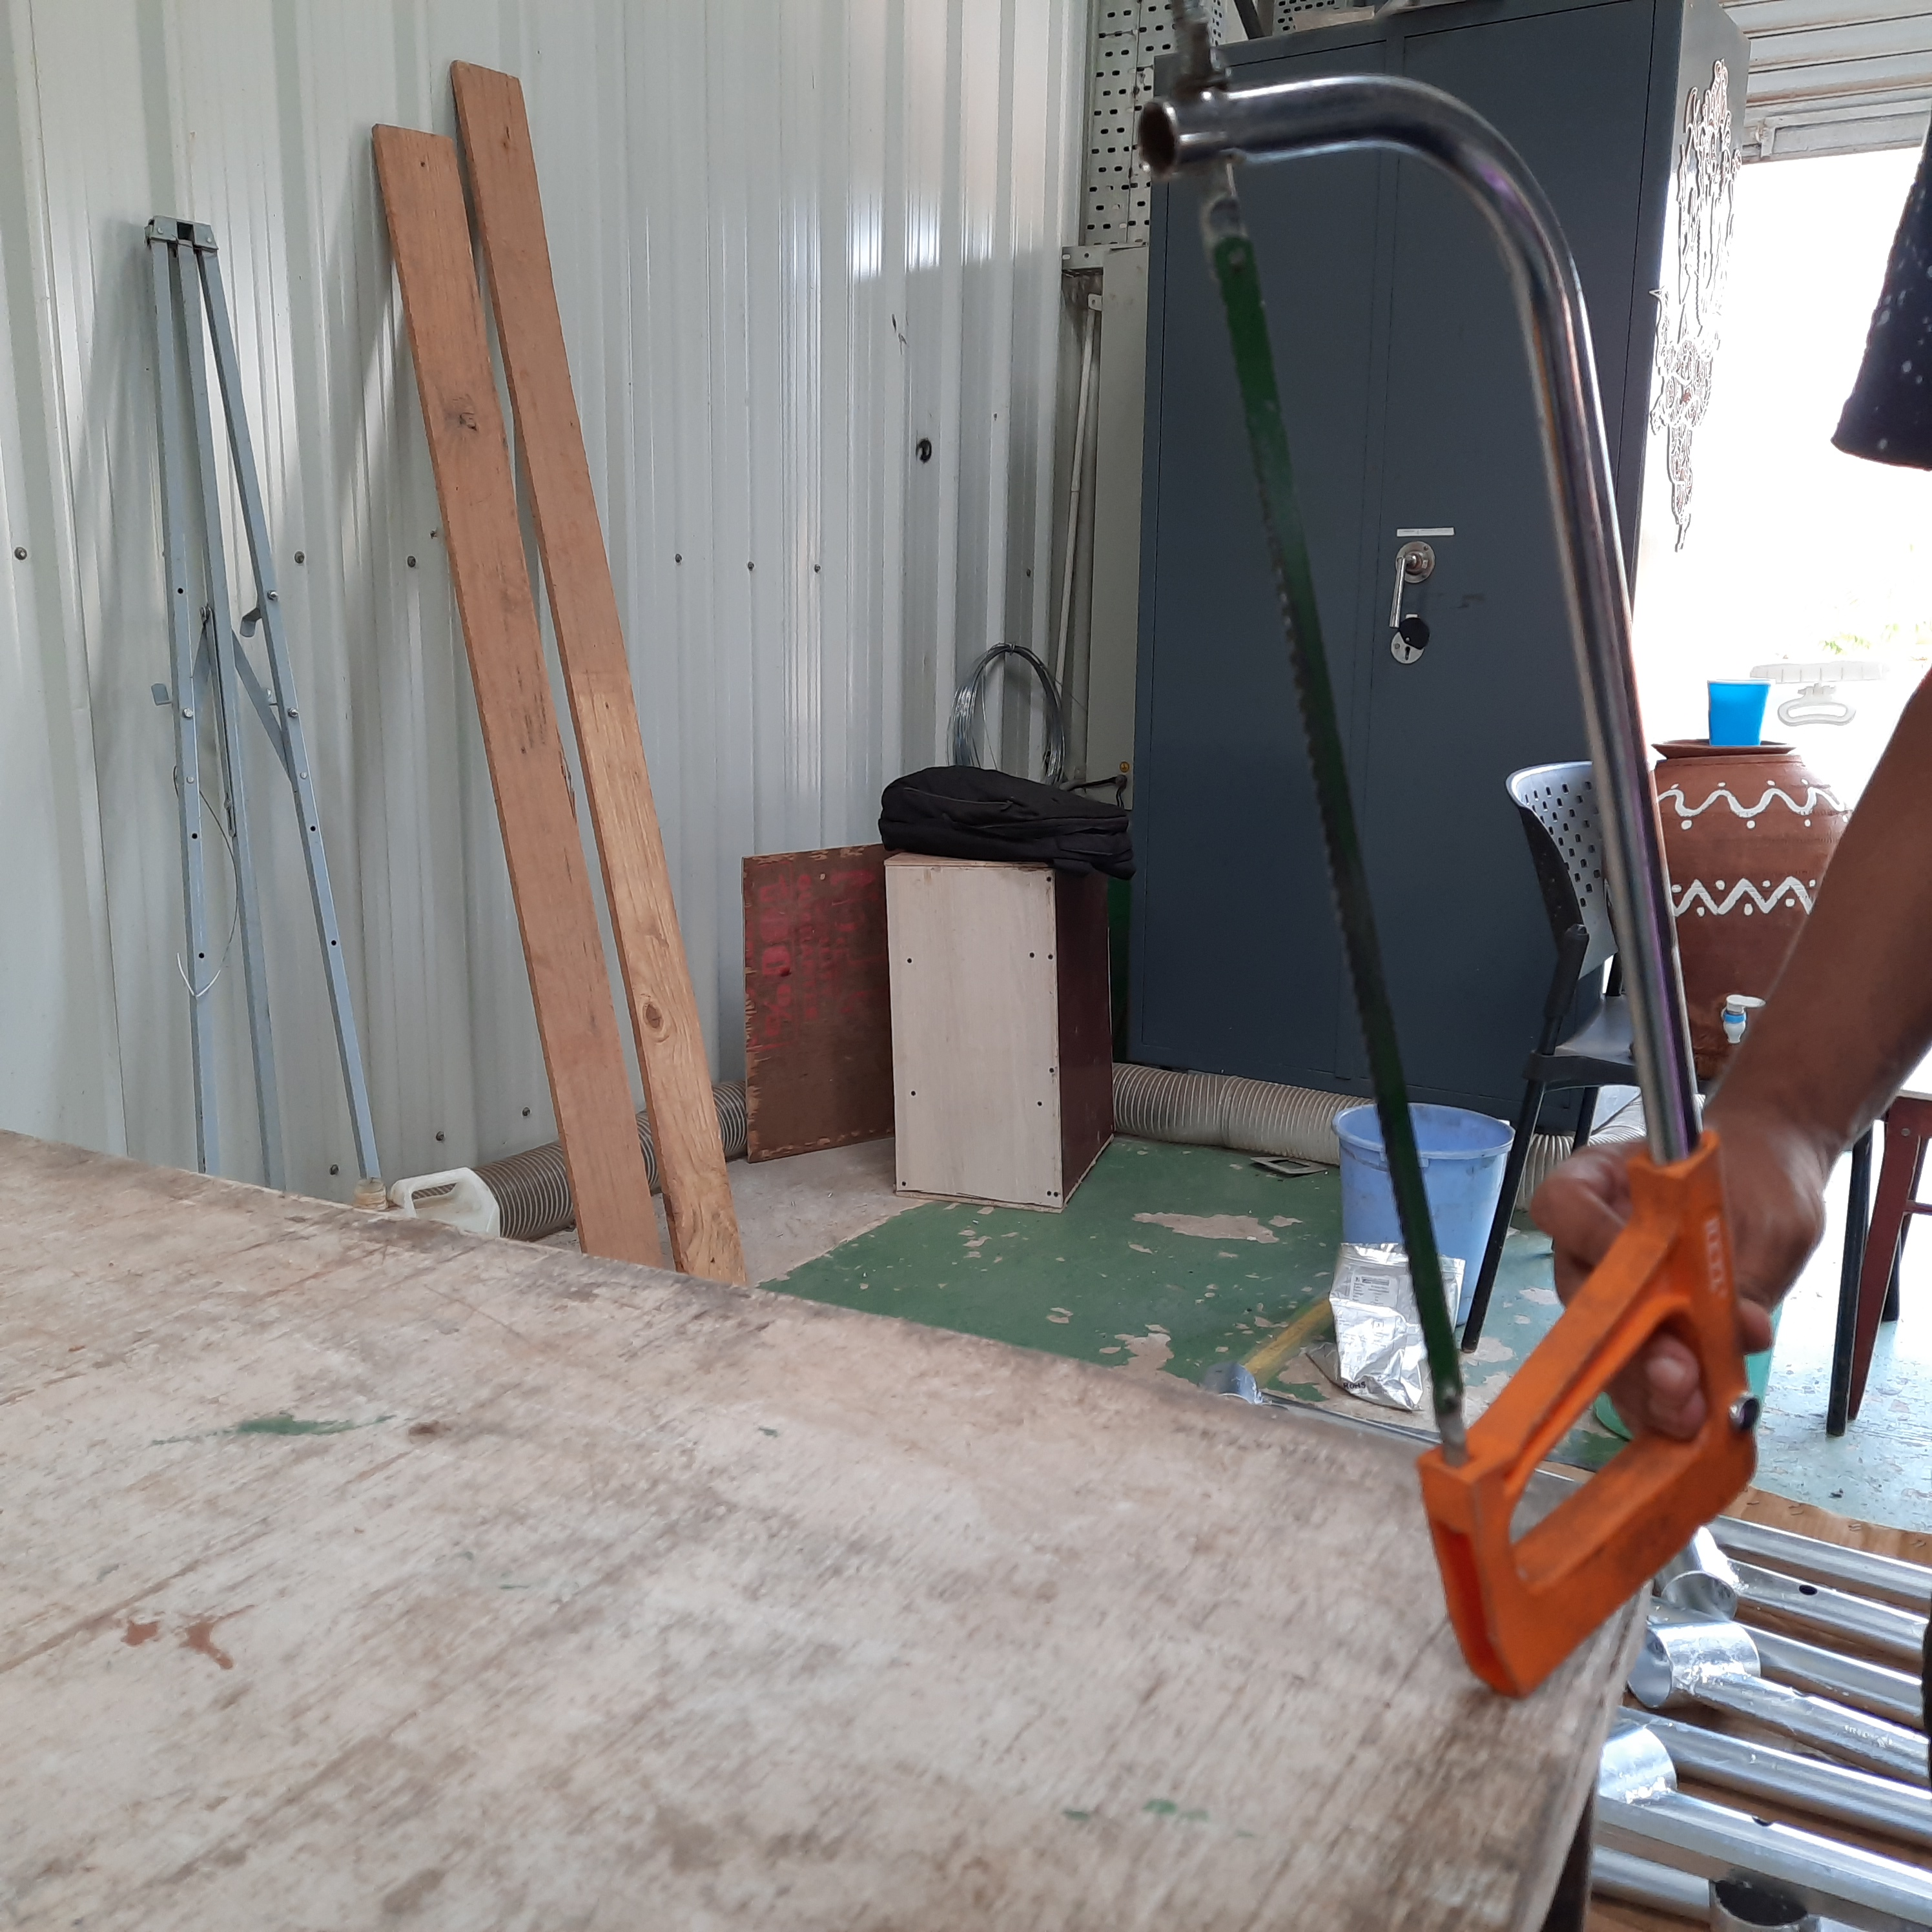Hexaframe: (1111, 9, 1785, 1702)
